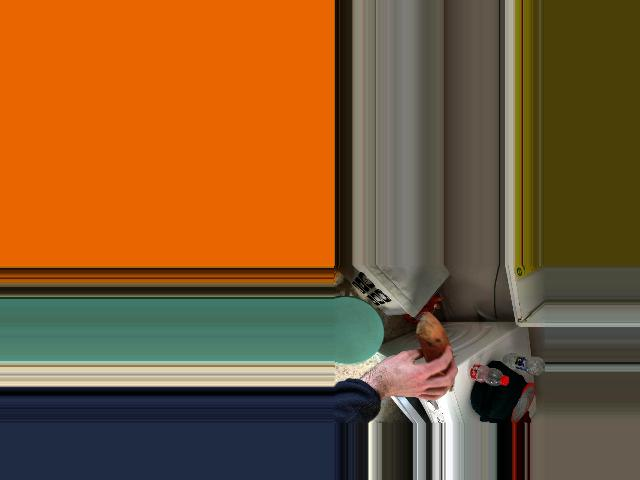sweet_potato: (418, 314, 455, 396)
